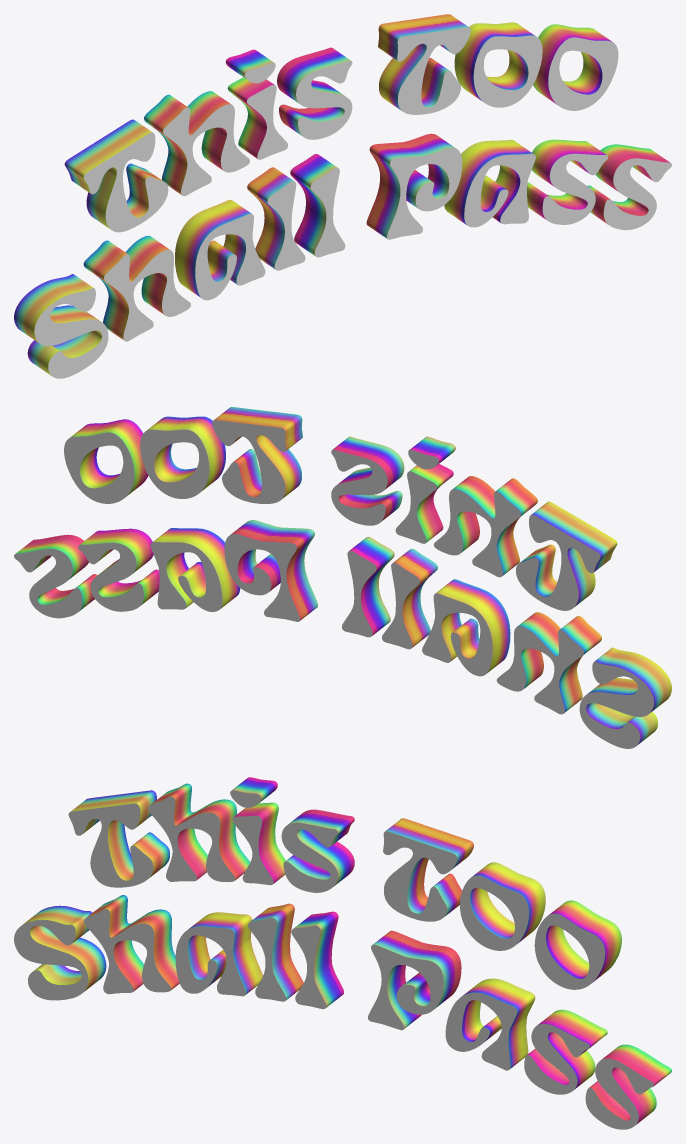
The model's file is HandRainbowTextNew.gltf.
3 renders of one model, top to bottom at view 1: azimuth 30°, elevation 25°; view 2: azimuth 150°, elevation 25°; view 3: azimuth 330°, elevation 25°, orthographic. The views are drawn at different scales.
Parts seen in each view (by area): view 1: Shall Pass, This Too; view 2: Shall Pass, This Too; view 3: Shall Pass, This Too.
Part boxes in pixels (x1,y1,x2,y2): Shall Pass: (14, 133, 671, 378); This Too: (64, 14, 618, 232); Shall Pass: (14, 520, 671, 748); This Too: (64, 407, 617, 610); Shall Pass: (14, 895, 671, 1129); This Too: (68, 777, 621, 989).
Bounding box in the file's own units: 0.3908 × 0.1489 × 0.0319.
5 materials, 1 textured.
